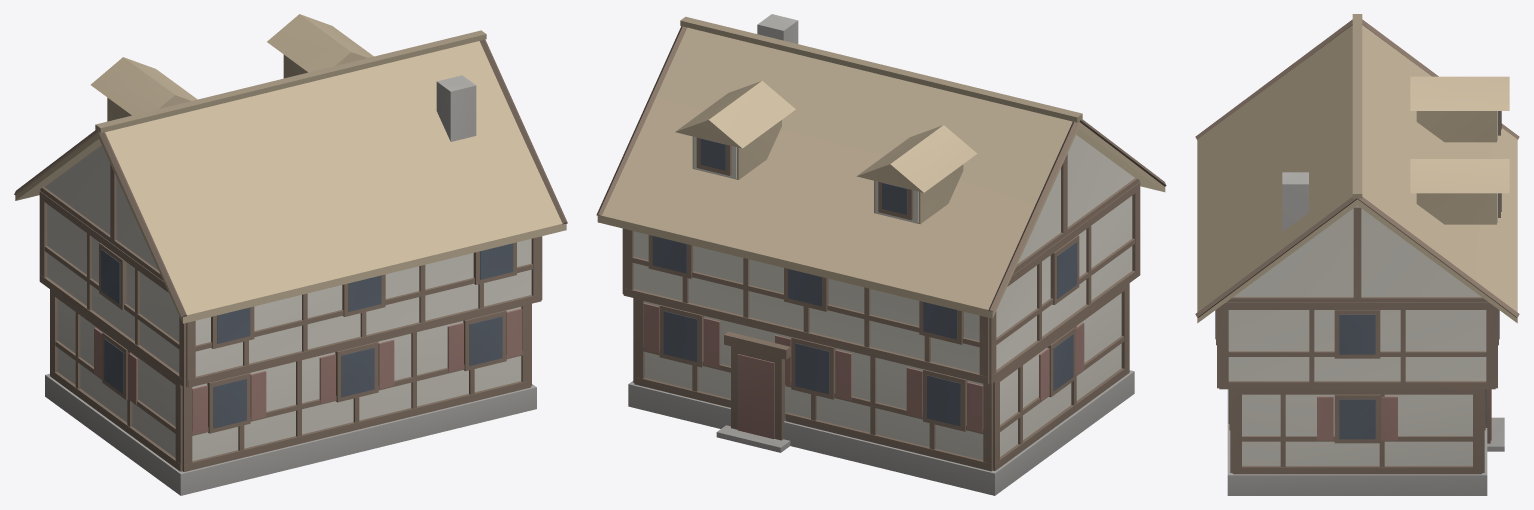
Rendered from hall_amber.gltf.
The picture shows the model from 3 angles, left to right: view 1: azimuth 30°, elevation 25°; view 2: azimuth 150°, elevation 25°; view 3: azimuth 270°, elevation 25°; orthographic projection. The views are drawn at different scales.
Visible parts, largest first — view 1: Body; view 2: Body; view 3: Body.
Boxes of the visible parts, left/top/right/bottom form: Body: left=14, top=14, right=567, bottom=495; Body: left=596, top=14, right=1166, bottom=495; Body: left=1195, top=14, right=1519, bottom=495.
Bounding box in the file's own units: 11.17 × 8.94 × 8.51.
